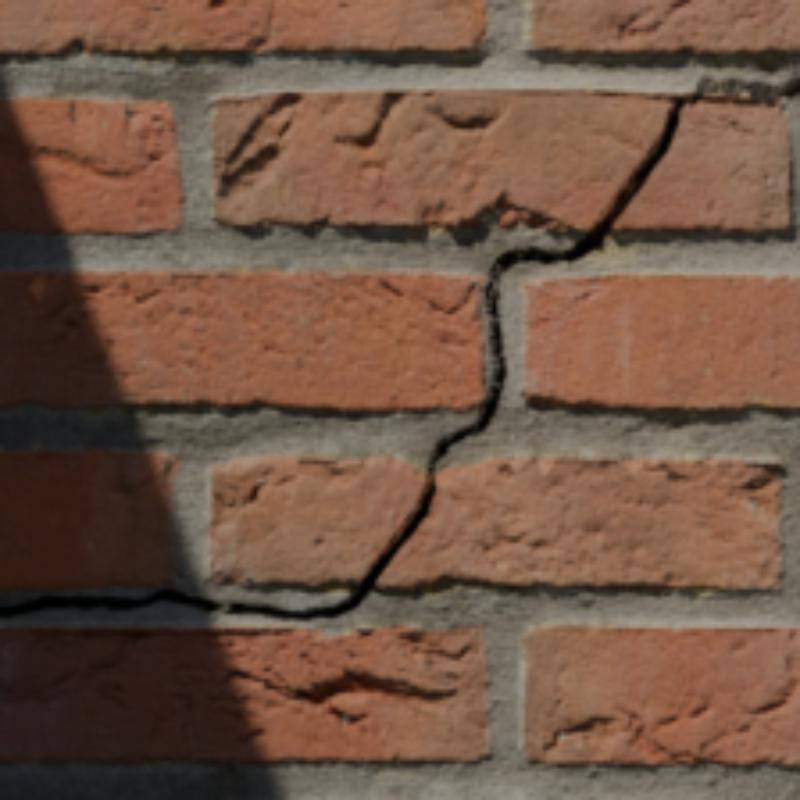pothole: (0, 79, 796, 618)
